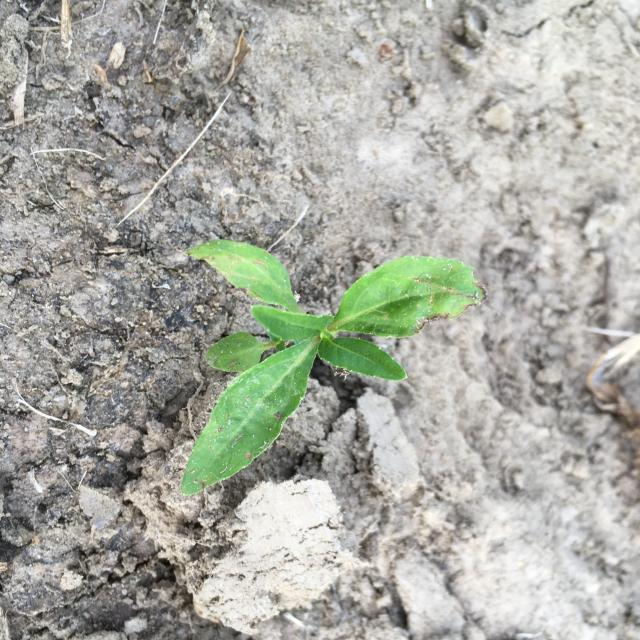Eclipta: (179, 239, 488, 498)
